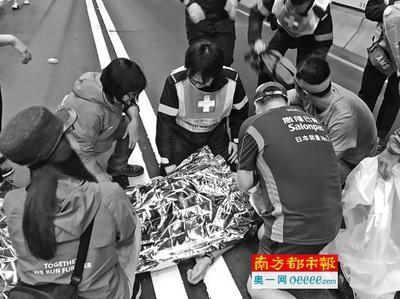Fall-Detected: (136, 142, 257, 283)
